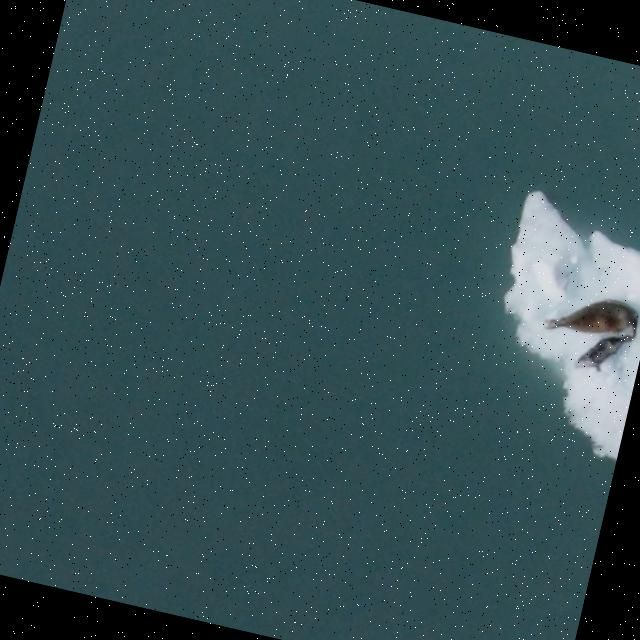seal: (545, 298, 639, 341), (573, 318, 636, 381)
